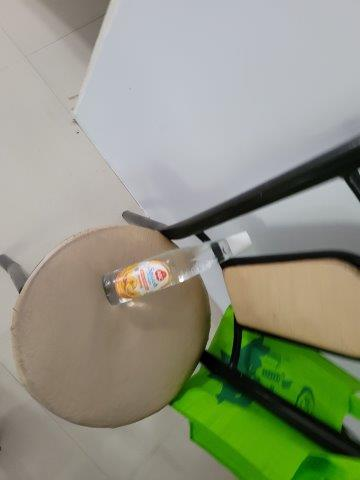botolkaca: (102, 233, 255, 307)
